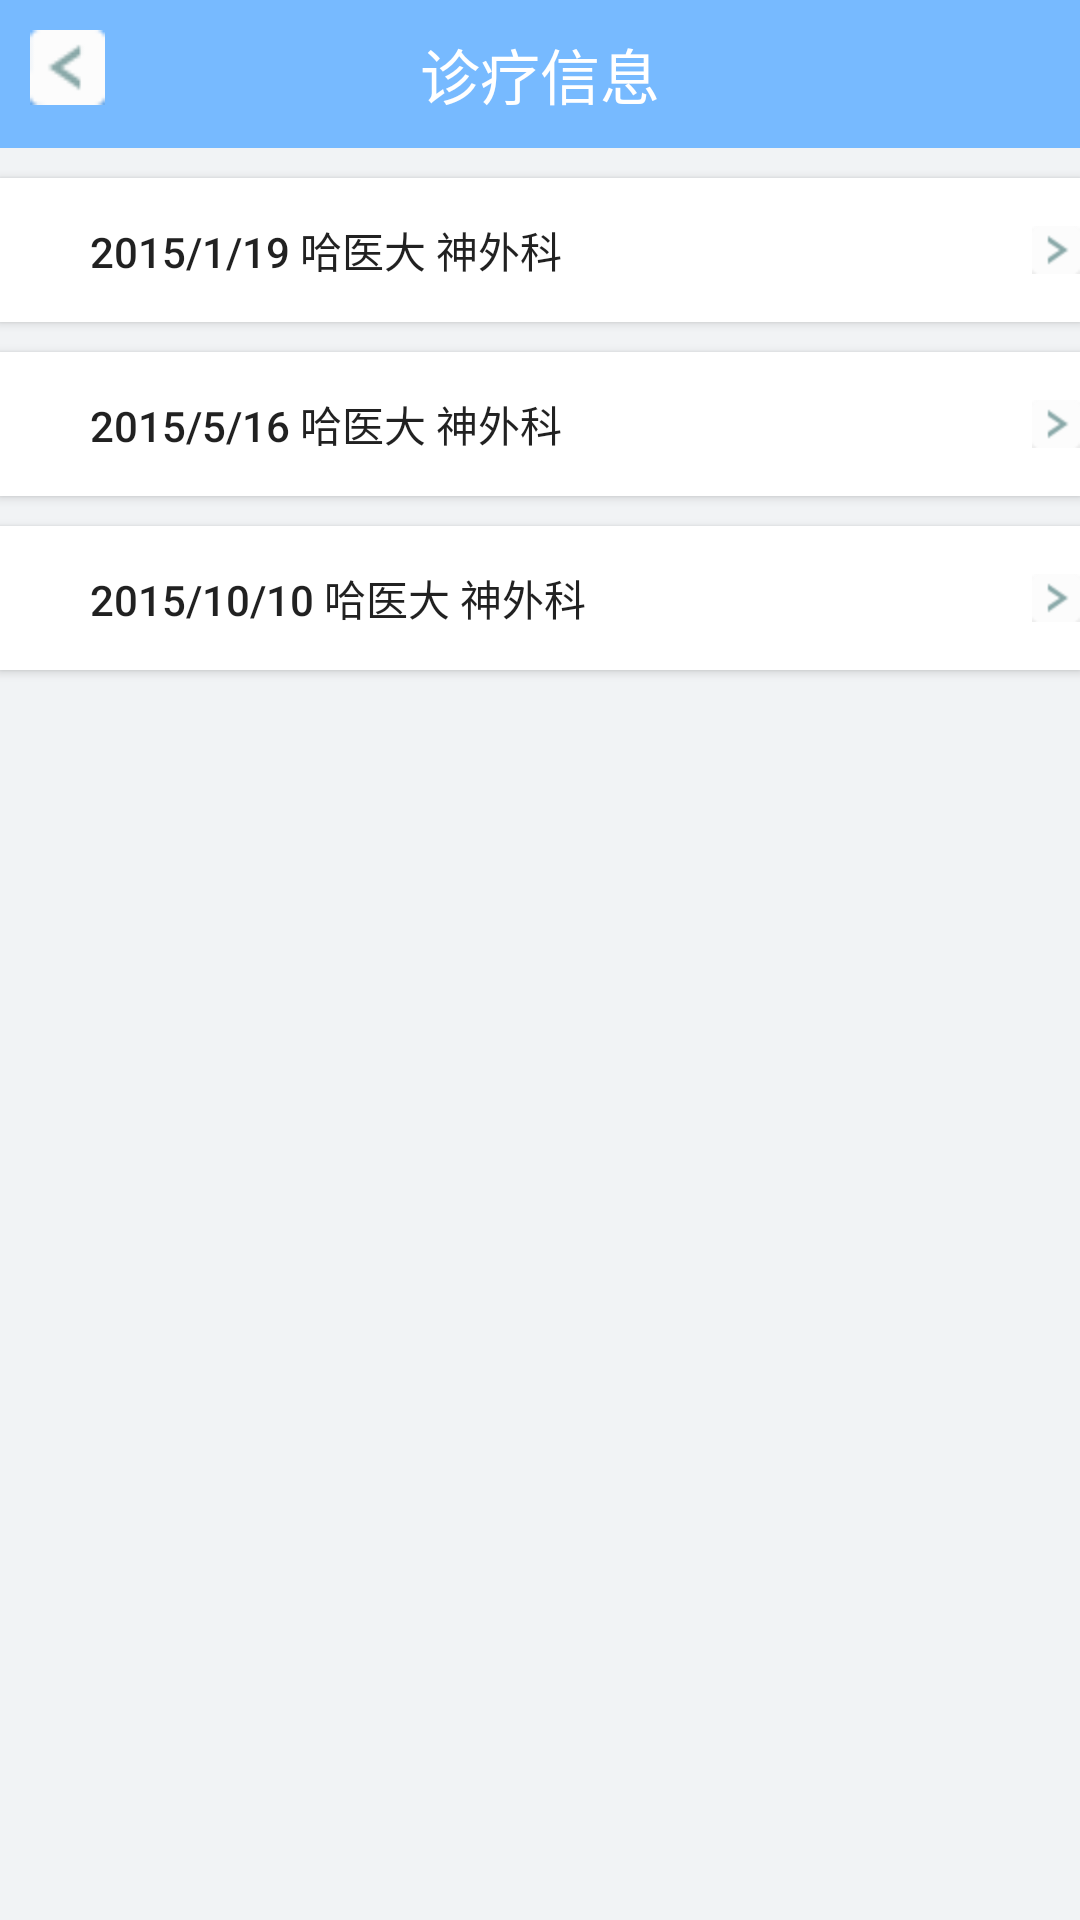

Locate icon controls on the screen. Image size 1080×1920, boxes as (x1, y1, x2, y2).
left: (30, 30, 105, 105)
